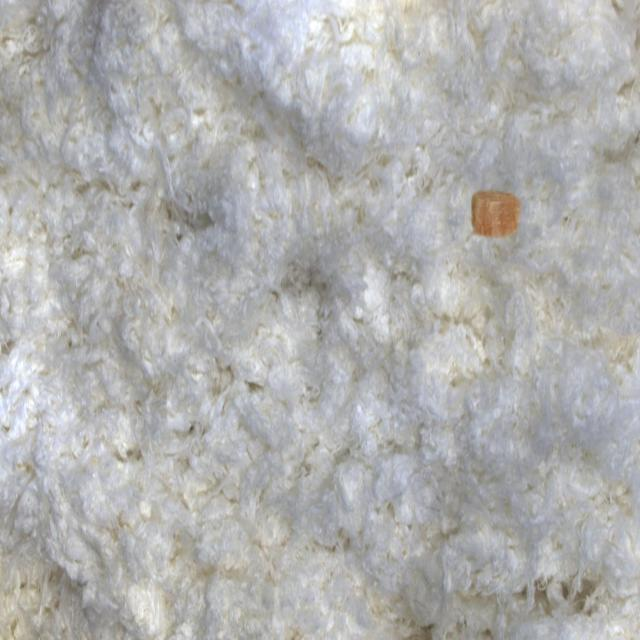dust: (434, 143, 552, 272)
